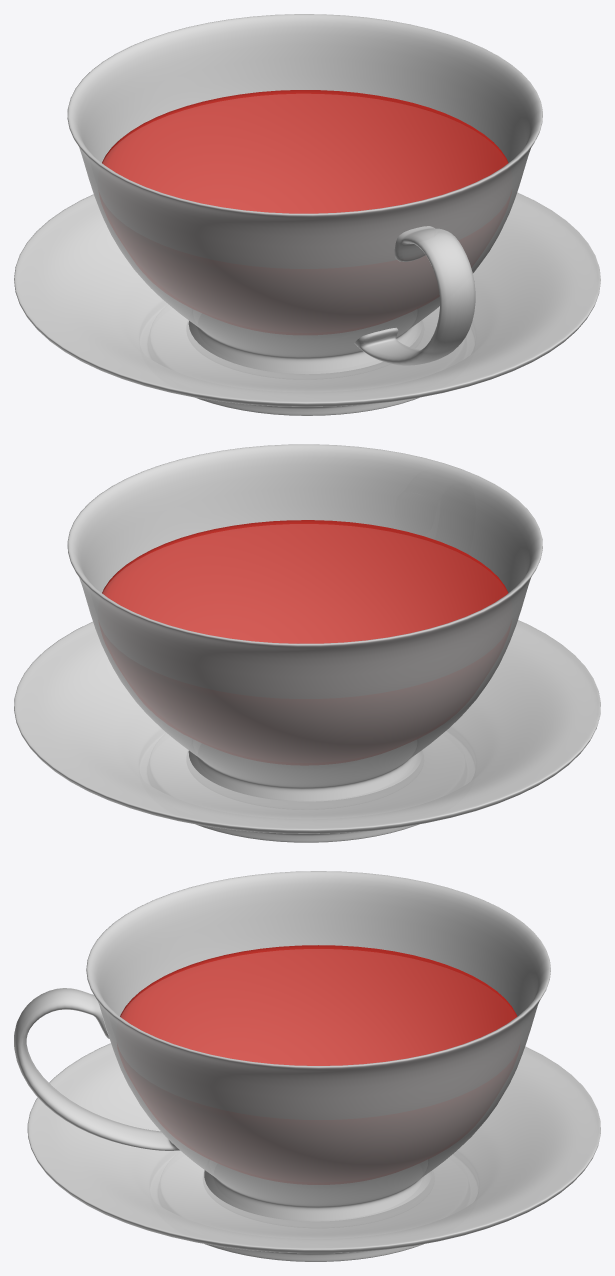
Rendered from tea.fbx.
3 views of the same model, one above another, from view 1: azimuth 30°, elevation 25°; view 2: azimuth 150°, elevation 25°; view 3: azimuth 270°, elevation 25° (orthographic). The views are drawn at different scales.
Parts seen in each view (by area): view 1: Tea; view 2: Tea; view 3: Tea.
Part boxes in pixels (<box>): Tea: <box>14,14,600,415</box>; Tea: <box>14,444,600,842</box>; Tea: <box>14,871,600,1261</box>.
Bounding box in the file's own units: 61.92 × 26.71 × 63.37.
